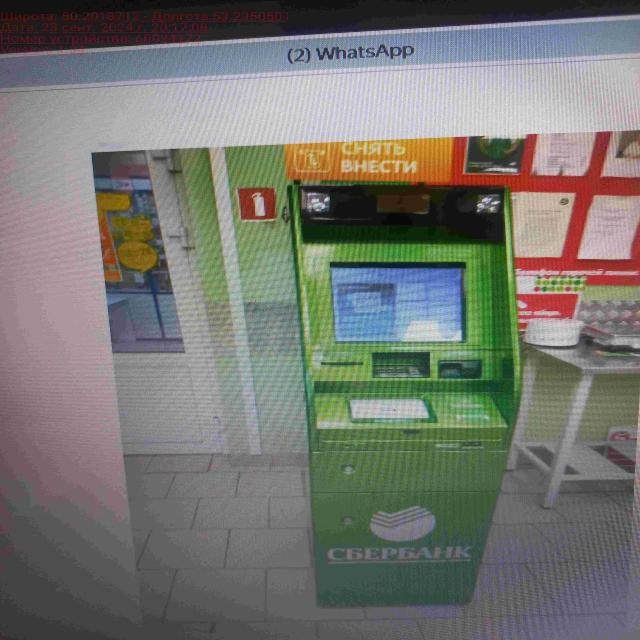bank: (281, 143, 524, 610)
